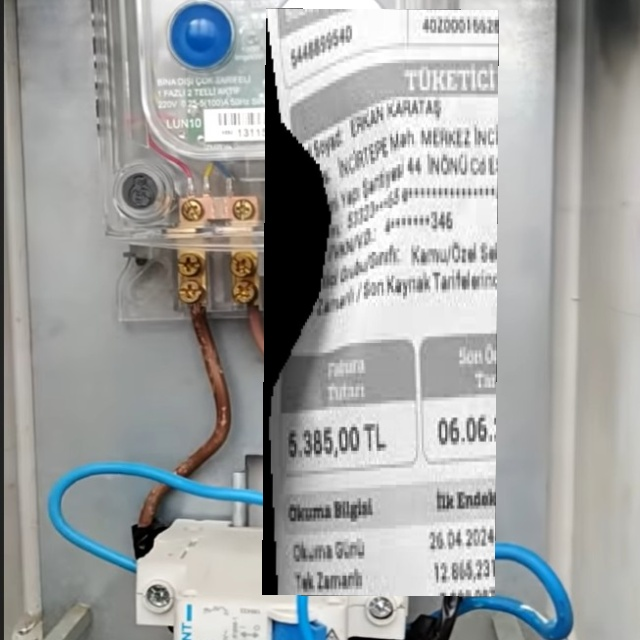electricity-bill: (262, 8, 498, 596)
